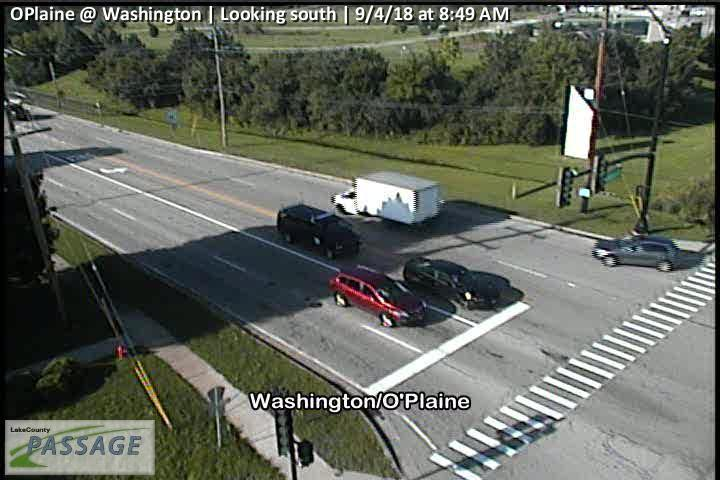SUV: (328, 266, 426, 328), (404, 257, 500, 311), (277, 205, 360, 259), (592, 235, 679, 271)
Truck: (332, 170, 440, 230)
